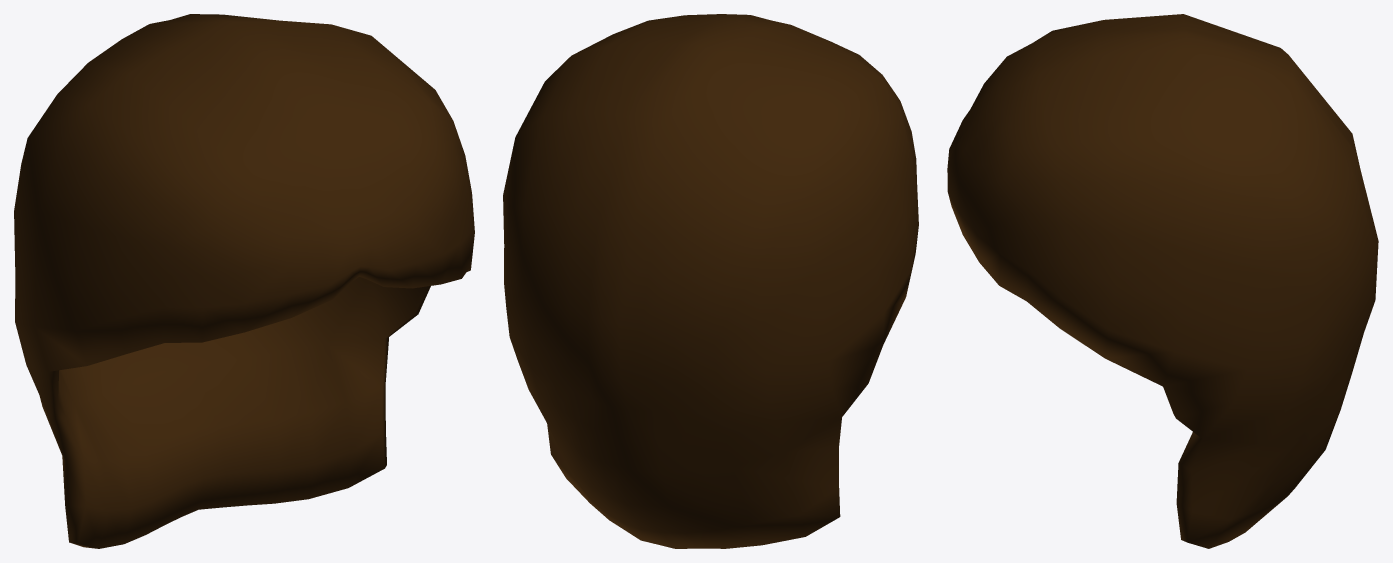
File: LongHairPirateForUnity.fbx
The picture shows the model from 3 angles, left to right: view 1: azimuth 30°, elevation 25°; view 2: azimuth 150°, elevation 25°; view 3: azimuth 270°, elevation 25°; orthographic projection. The views are drawn at different scales.
Visible parts, largest first — view 1: LongPirateHair_low; view 2: LongPirateHair_low; view 3: LongPirateHair_low.
Part boxes in pixels (x1,y1,x2,y2): LongPirateHair_low: (14, 14, 474, 548); LongPirateHair_low: (503, 14, 918, 548); LongPirateHair_low: (947, 14, 1378, 548).
Size of the model in its own units: 29.22 by 29.99 by 36.24.
